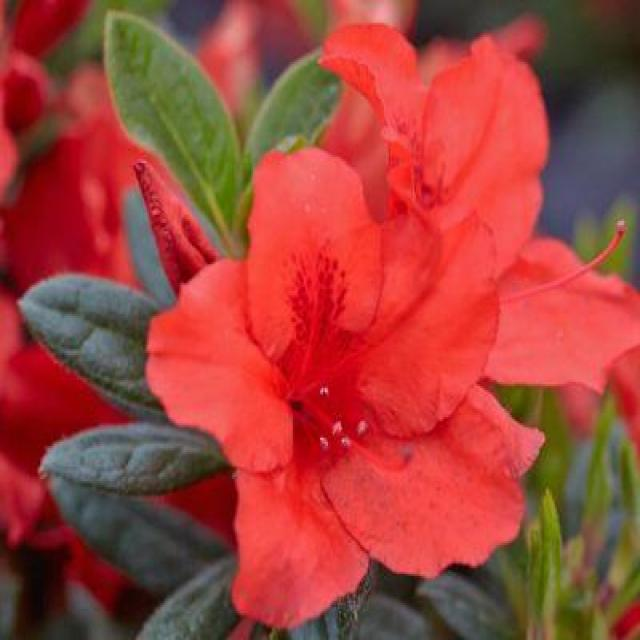organic waste: (131, 143, 531, 602), (327, 24, 636, 383)
